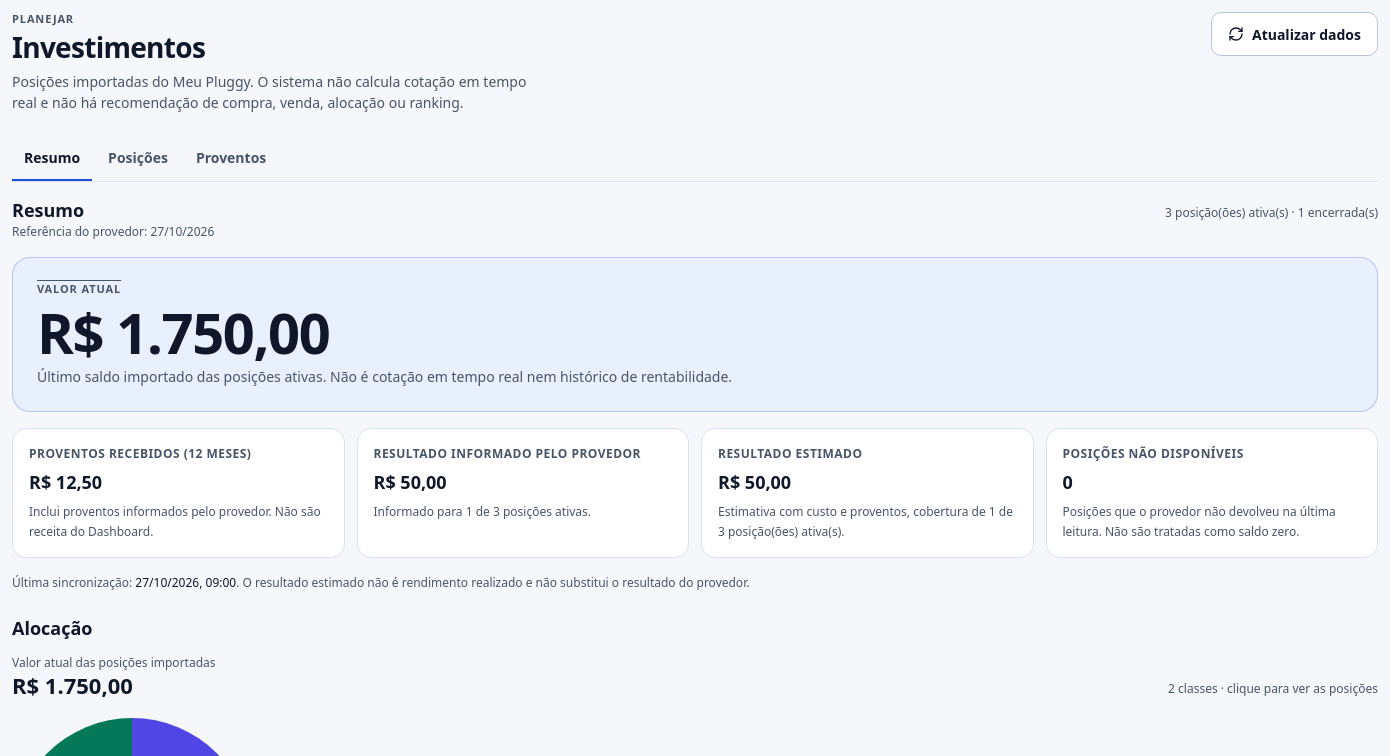
it: dashboard de investimentos › filtra posições ativas e encerradas
expect the heading "Investimentos" is shown: met, box x1=12 y1=28 x2=205 y2=66
Click the tab "Posições": (138, 159) x1=96 y1=137 x2=180 y2=181
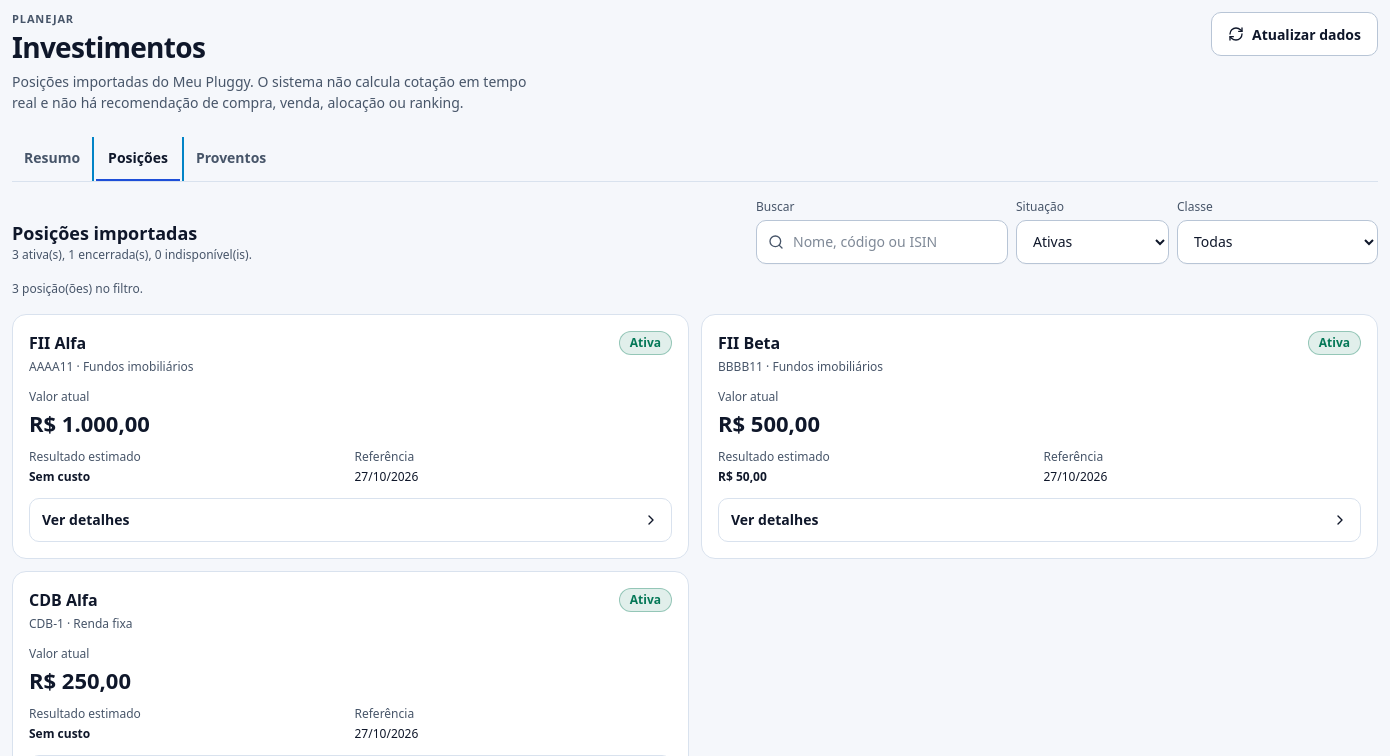
expect the text "FII Gama" is not shown: met
expect the heading "FII Alfa" is shown: met, box x1=29 y1=332 x2=86 y2=354
expect the heading "CDB Alfa" is shown: met, box x1=29 y1=589 x2=98 y2=611
Select "Encerradas" in the dropdown labelled "Situação": (1092, 242) x1=1016 y1=220 x2=1169 y2=264
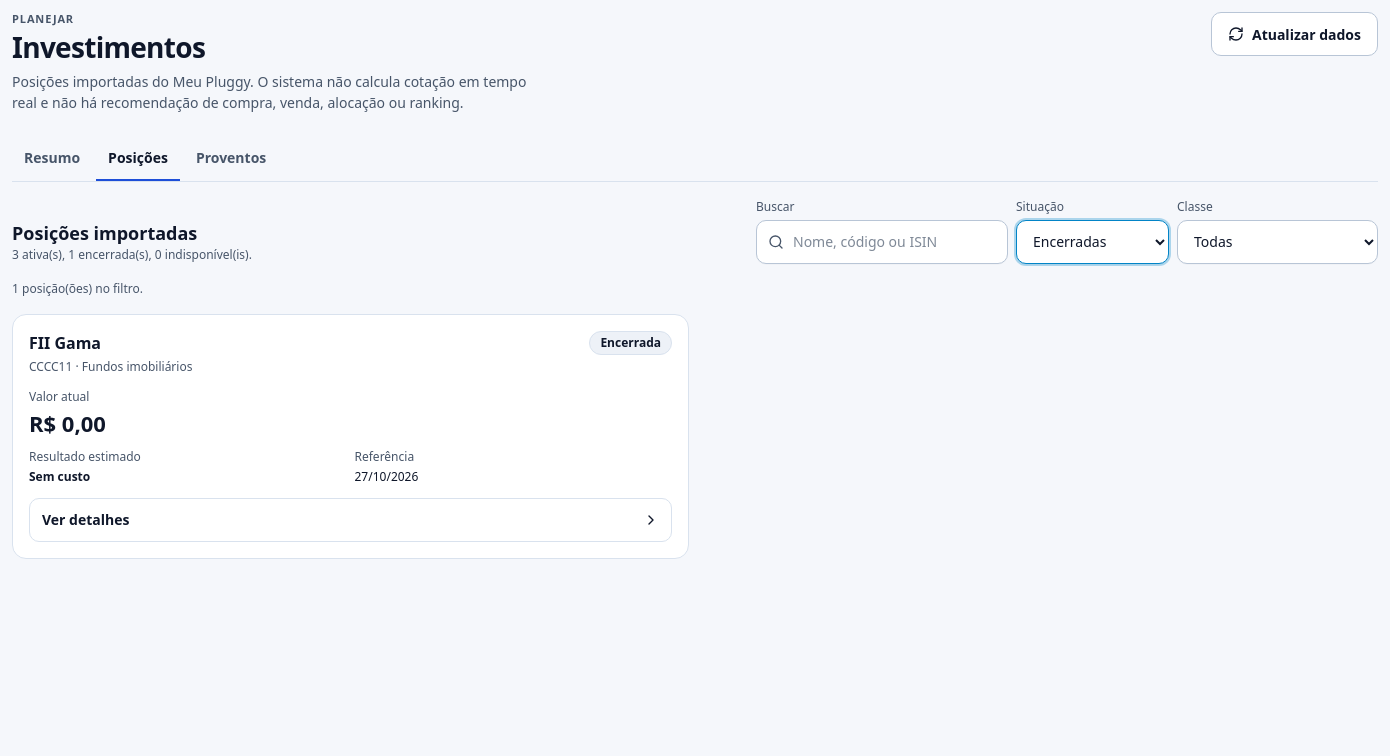
expect the heading "FII Gama" is shown: met, box x1=29 y1=332 x2=101 y2=354
expect the heading "FII Alfa" is gone: met
